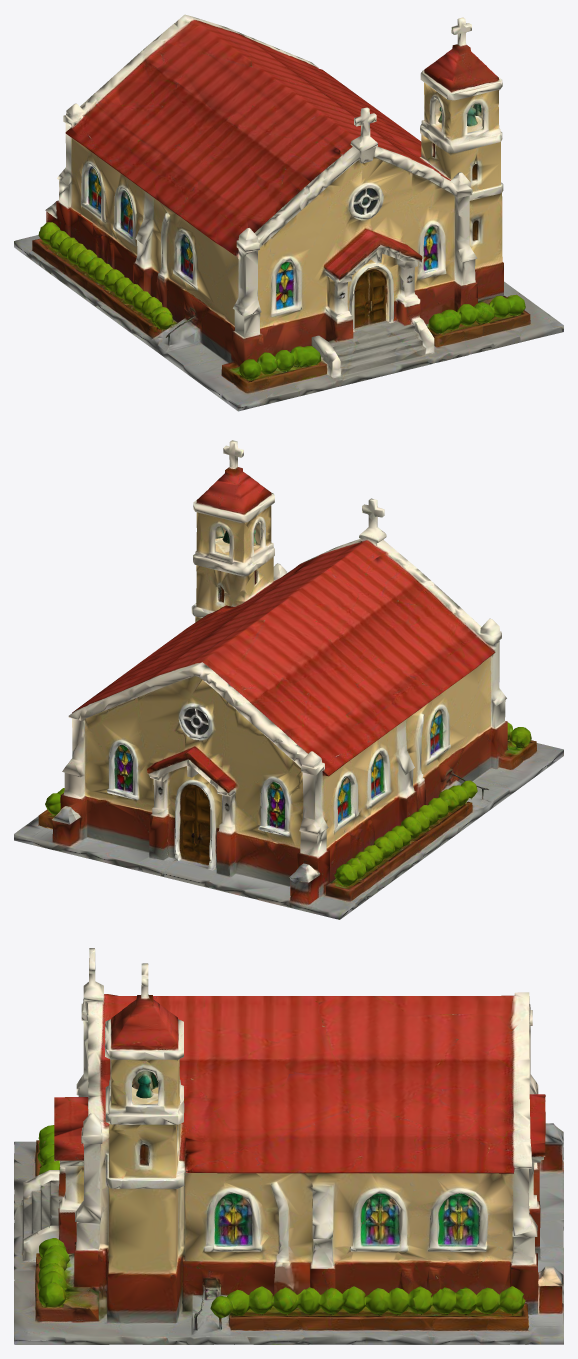
Rendered from church.glb.
3 views of the same model, one above another, from view 1: azimuth 30°, elevation 25°; view 2: azimuth 150°, elevation 25°; view 3: azimuth 270°, elevation 25° (orthographic). The views are drawn at different scales.
Bounding box in the file's own units: 1.6 × 1.34 × 1.9.
1 material, 1 textured.
